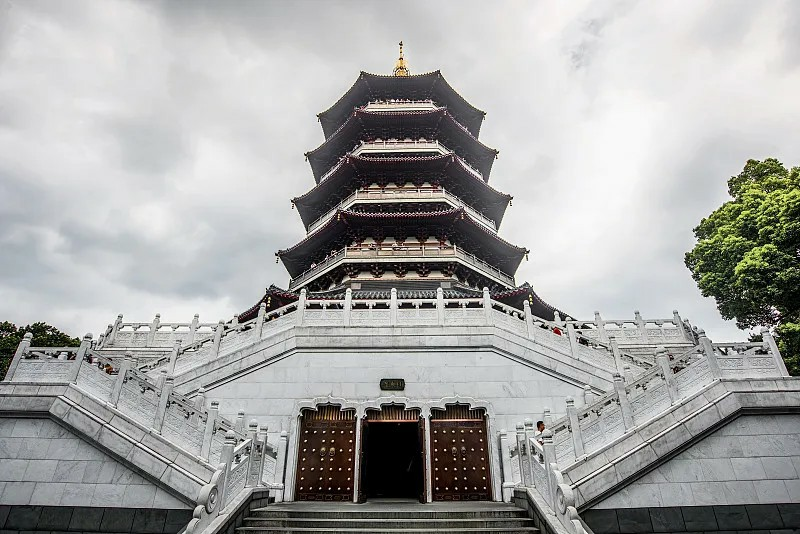Leifeng: (227, 37, 576, 323)
